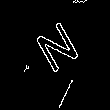N_NW: (29, 6, 83, 70)
